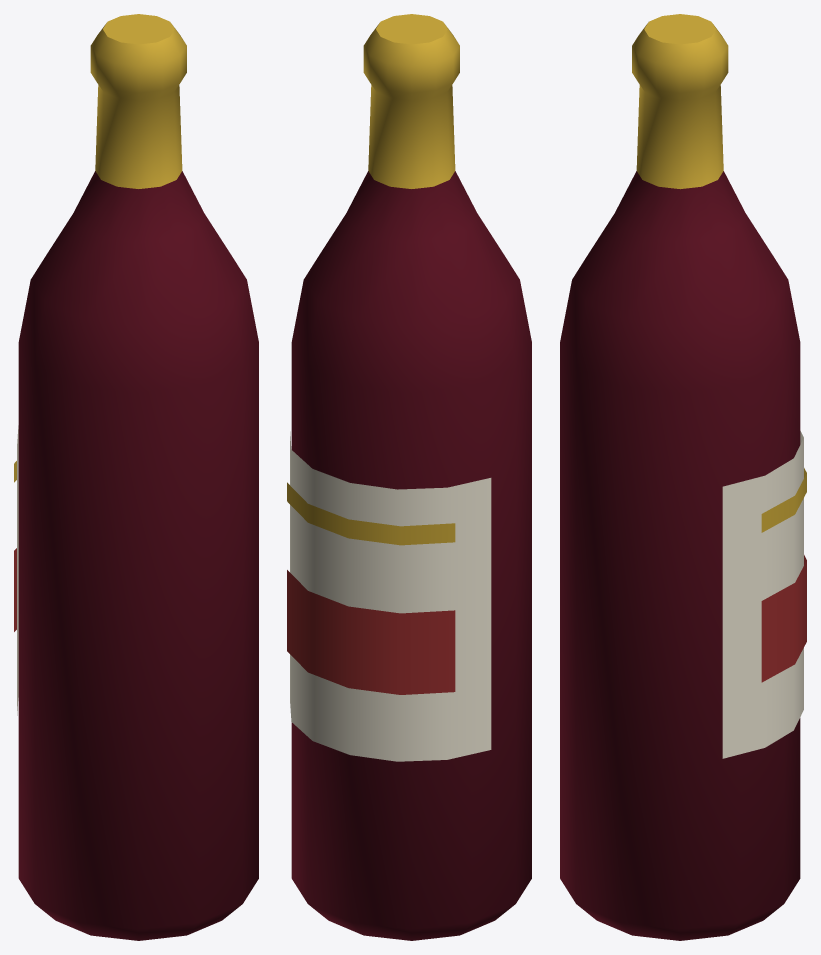
The model's file is wine_bottle.glb.
3 renders of one model, left to right at view 1: azimuth 30°, elevation 25°; view 2: azimuth 150°, elevation 25°; view 3: azimuth 270°, elevation 25°, orthographic.
Visible parts, largest first — view 1: wine_bottle; view 2: wine_bottle; view 3: wine_bottle.
Part boxes in pixels (x1,y1,x2,y2): wine_bottle: (14, 14, 258, 940); wine_bottle: (287, 14, 531, 940); wine_bottle: (560, 14, 806, 940).
Bounding box in the file's own units: 0.08 × 0.32 × 0.0822.
1 material, 1 textured.
